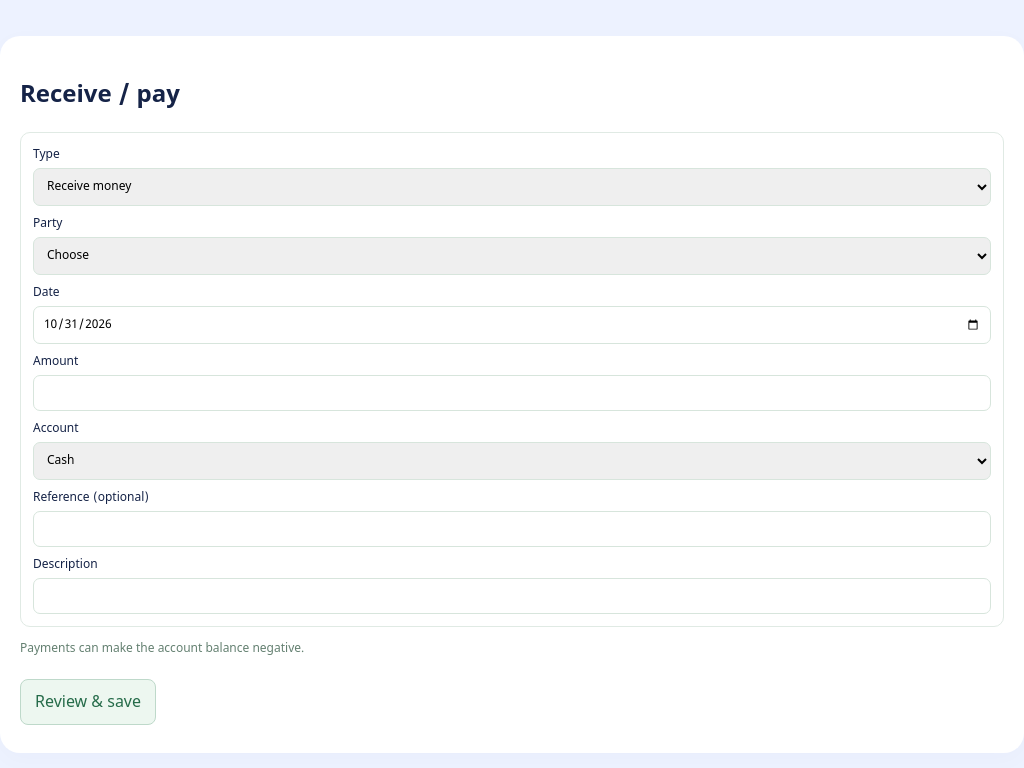
it: saves a reviewed receipt with chosen account and clears the recovery copy
Select "Trader" in the dropdown labelled "Party" at [512, 256], box [33, 237, 991, 275]
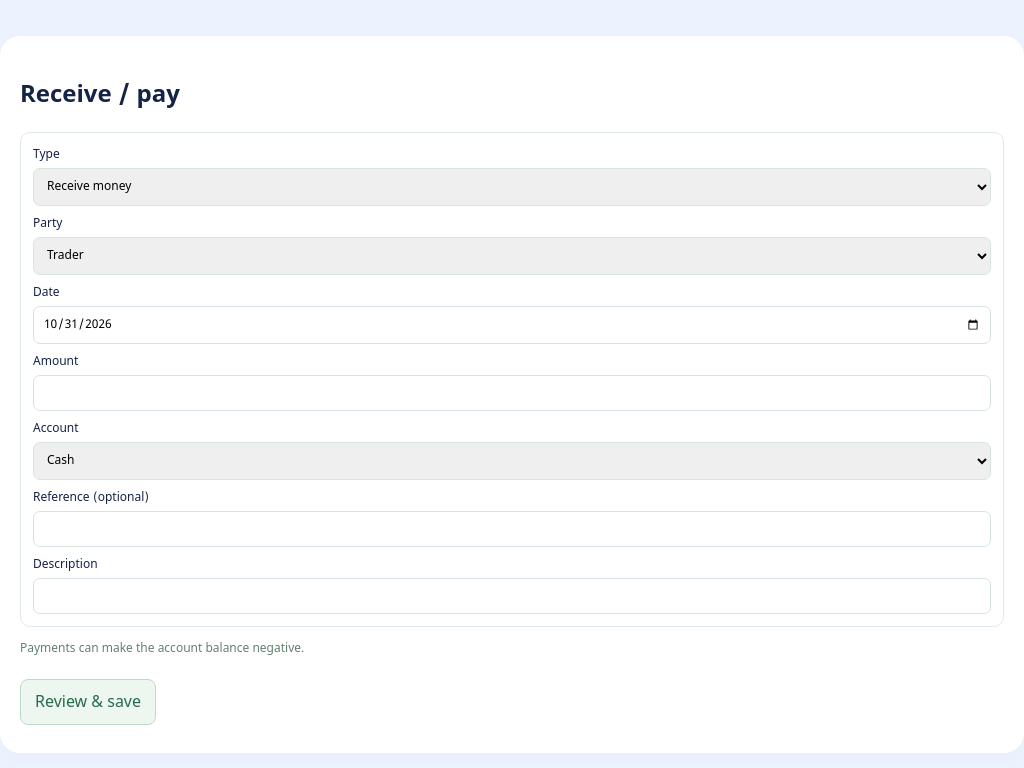
Type "100" into the field labelled "Amount".
click(512, 393); type("100")  # box [33, 375, 991, 411]
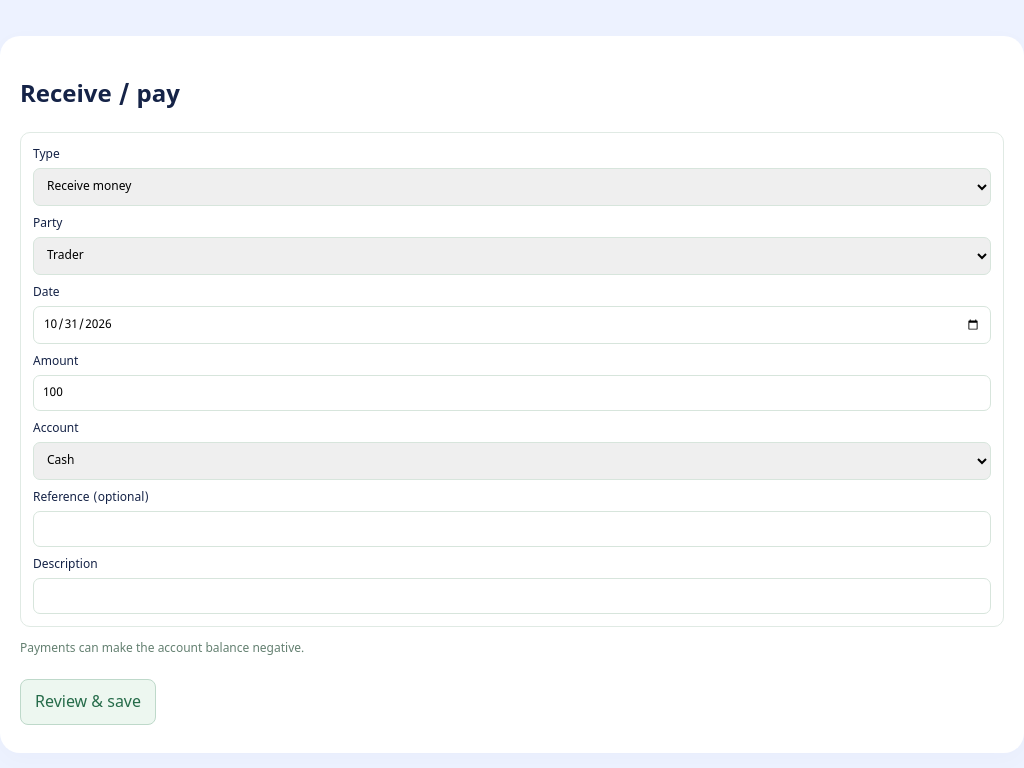
Type "R1" into the field labelled "Reference (optional)".
click(512, 529); type("R1")  # box [33, 511, 991, 547]
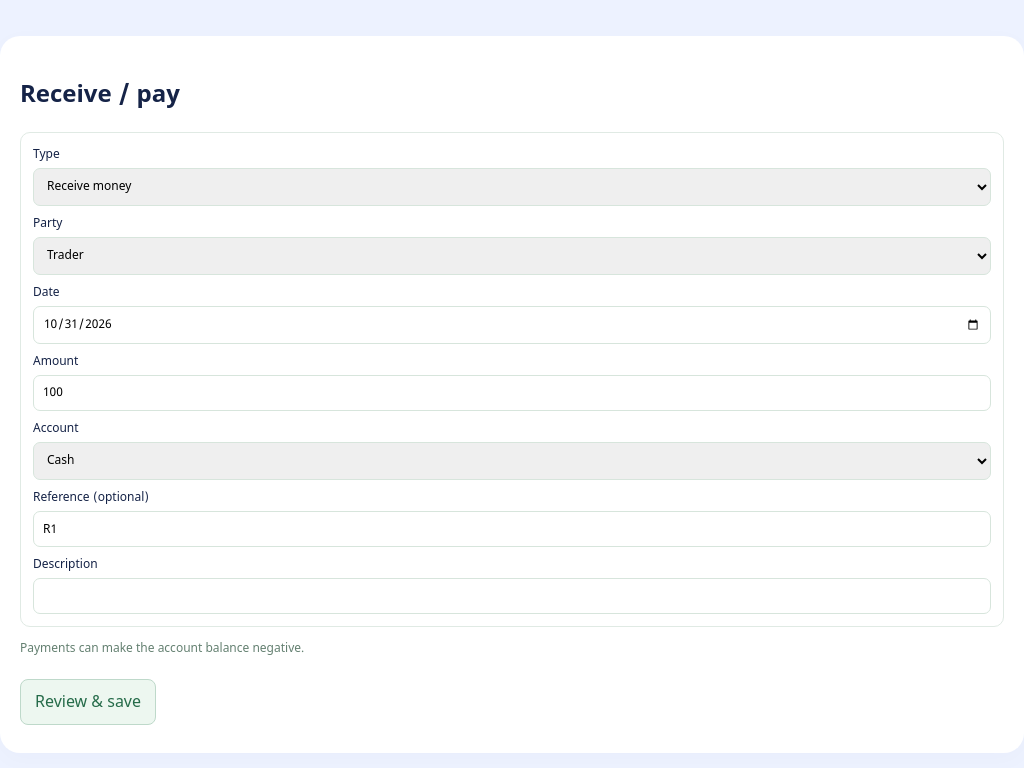
Type "Settlement" into the field labelled "Description".
click(512, 596); type("Settlement")  # box [33, 578, 991, 614]
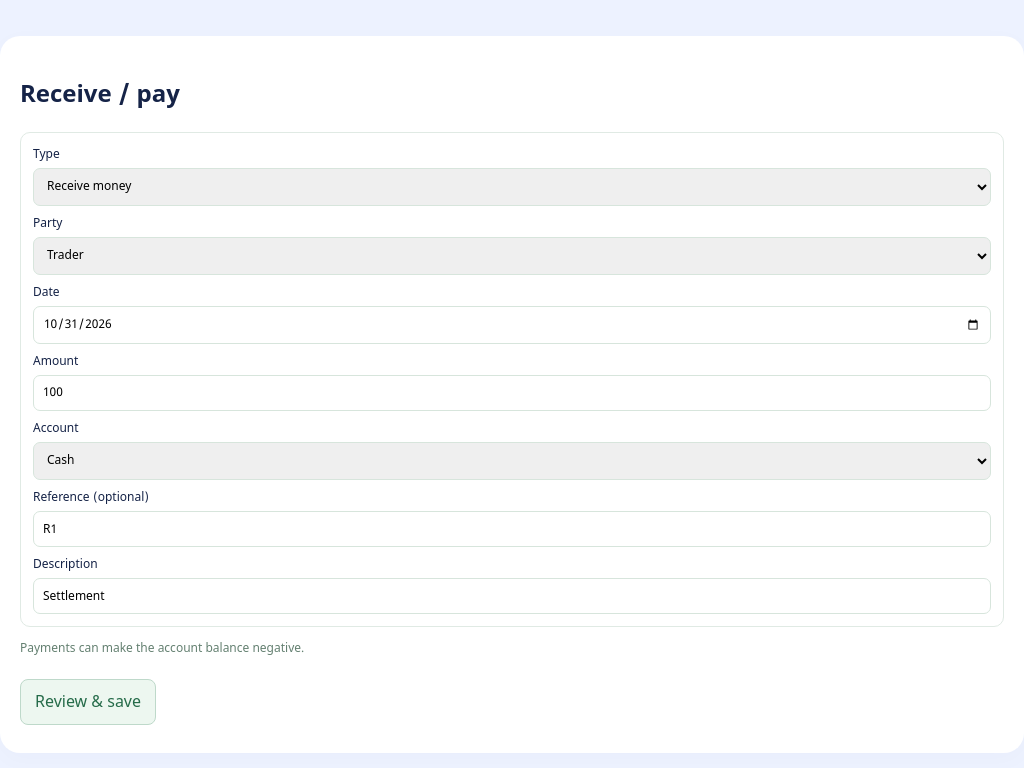
Select "Bank" in the dropdown labelled "Account" at [512, 461], box [33, 442, 991, 480]
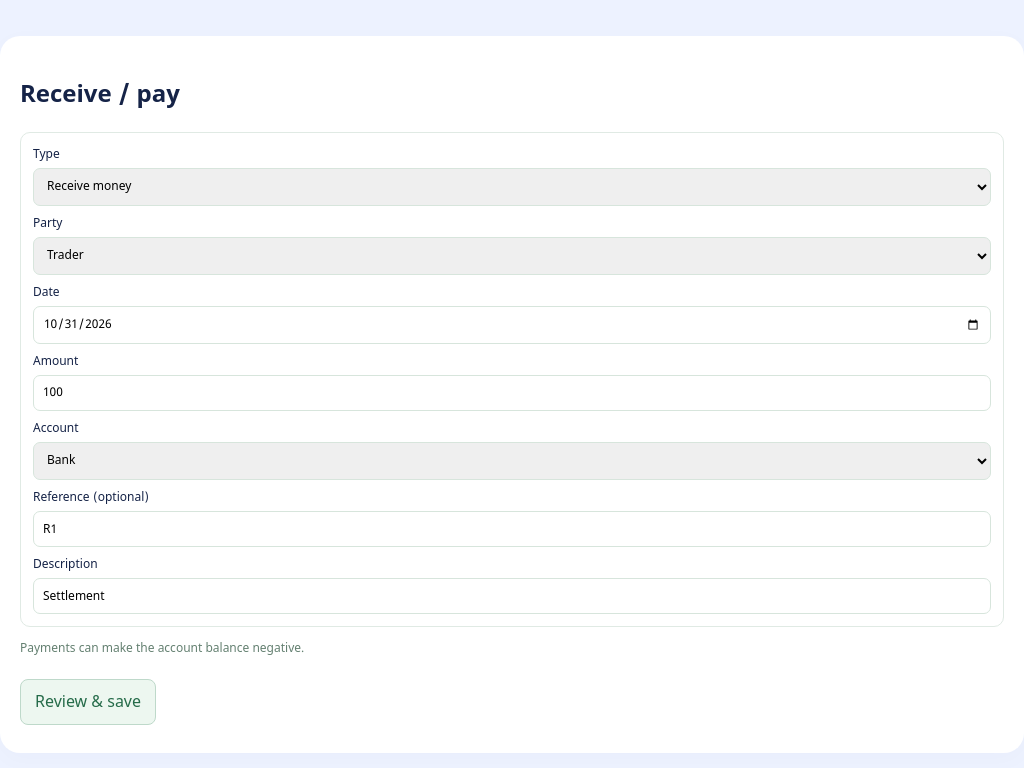
Click the button "Review & save".
click(88, 702)  # box [20, 679, 156, 725]
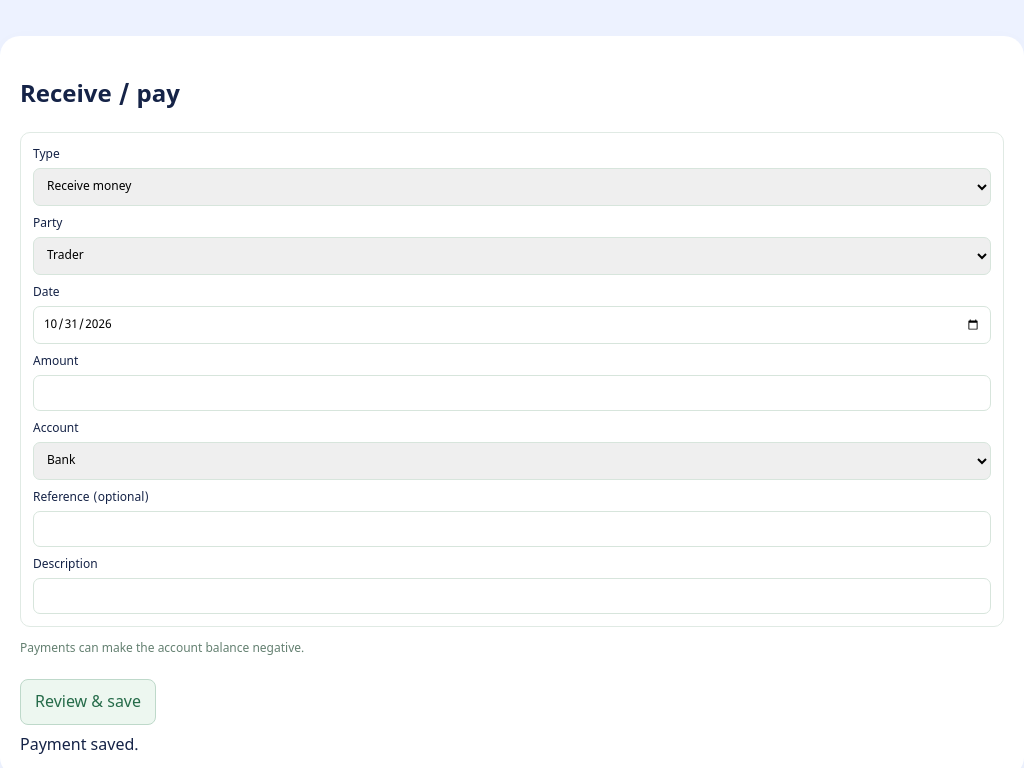
expect the text "Payment saved." is shown: met, box [20, 735, 138, 757]
